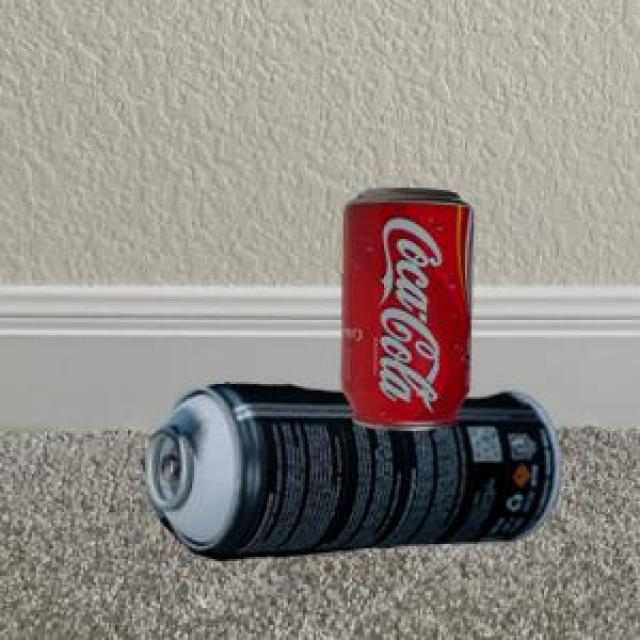logam: (138, 379, 558, 558), (338, 187, 470, 428)
